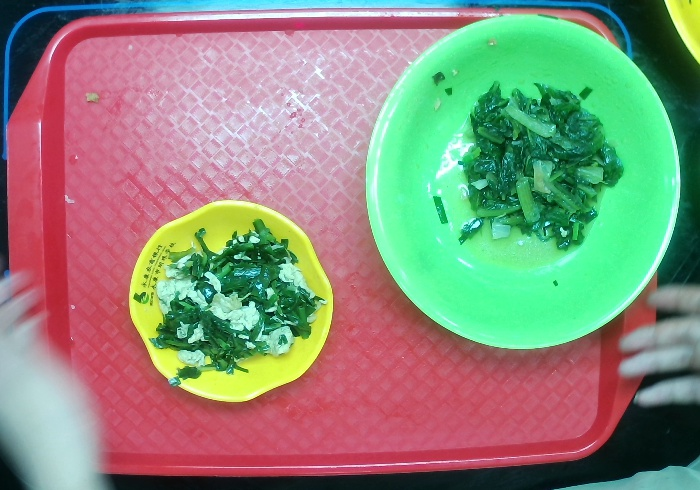YKMZ-Huang_Se_Ao_Bian_Wan: (123, 197, 335, 408)
YKMZ-Lv_Se_Tang_Wan: (360, 8, 687, 355)
